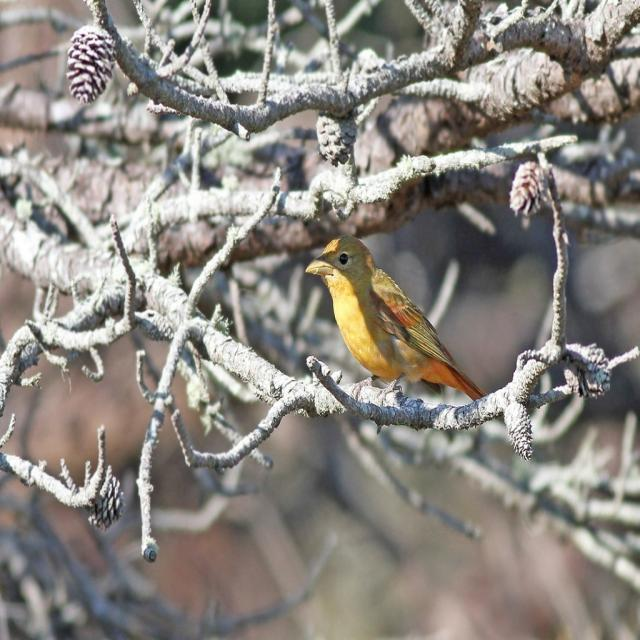bird: (303, 234, 488, 408)
